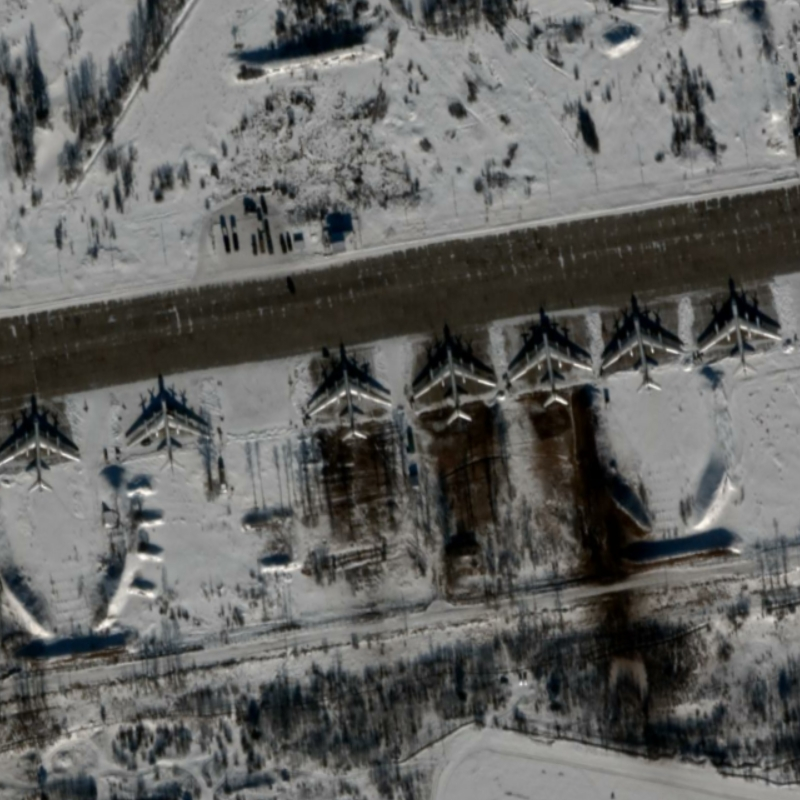A17: (696, 298, 785, 381), (411, 346, 499, 427), (599, 315, 687, 396), (507, 330, 594, 409), (125, 397, 213, 474), (307, 367, 393, 442), (1, 416, 82, 495)
